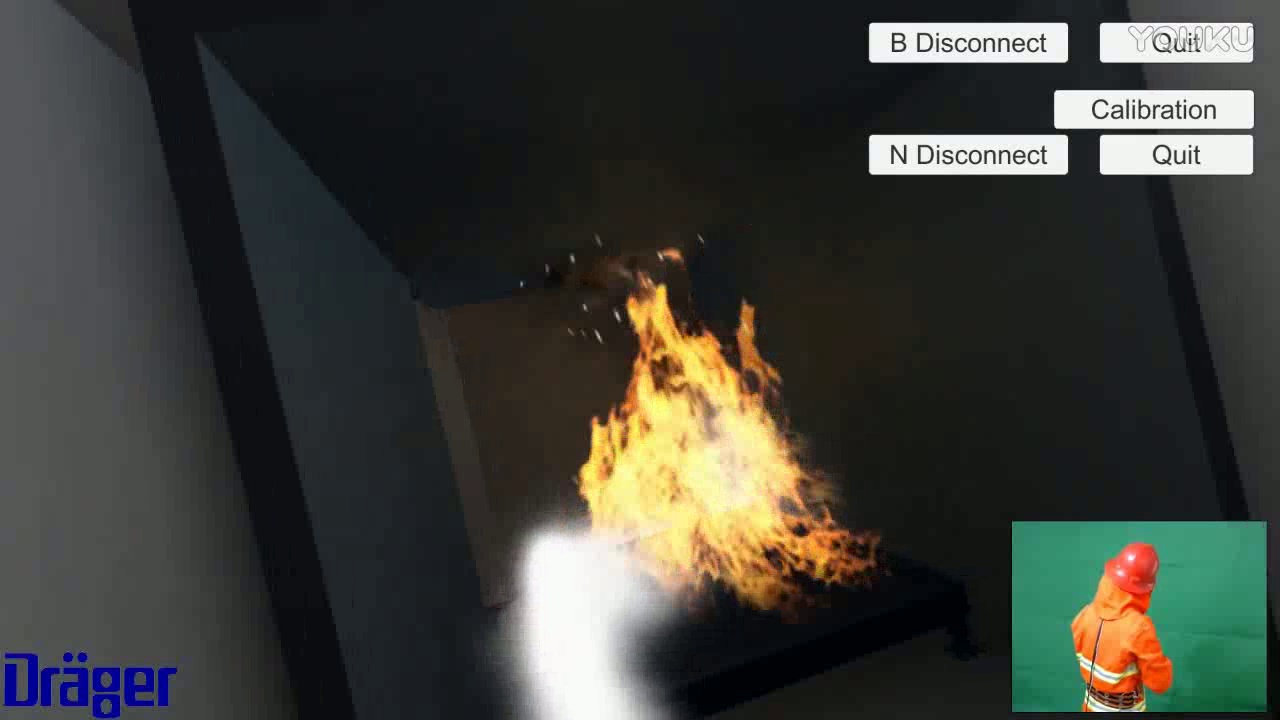fire: (566, 251, 883, 618)
